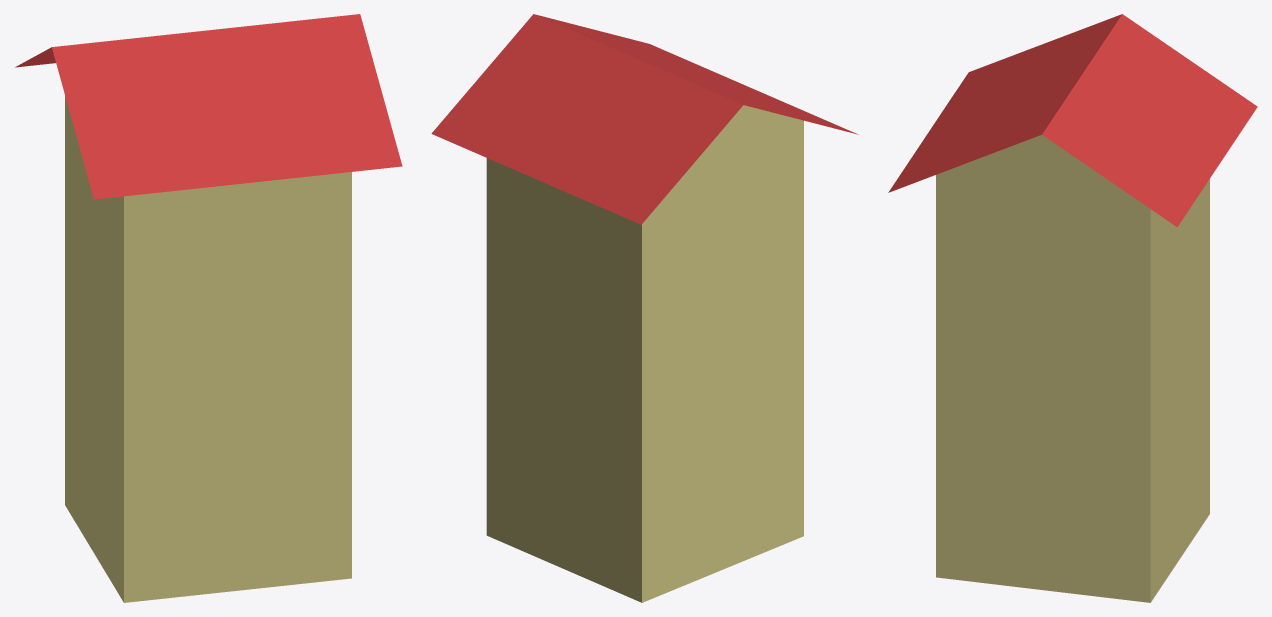
3 views of the same model, side by side, from view 1: azimuth 30°, elevation 25°; view 2: azimuth 150°, elevation 25°; view 3: azimuth 270°, elevation 25° (orthographic). The views are drawn at different scales.
Parts seen in each view (by area): view 1: group_5, group_3, group_4; view 2: group_5, group_3, group_4; view 3: group_5, group_3, group_4.
Part boxes in pixels (left/top/right/bottom): group_5: left=65, top=96, right=351, bottom=602; group_3: left=15, top=18, right=351, bottom=158; group_4: left=17, top=14, right=402, bottom=199; group_5: left=486, top=105, right=803, bottom=602; group_3: left=431, top=14, right=802, bottom=224; group_4: left=535, top=14, right=858, bottom=223; group_5: left=936, top=135, right=1209, bottom=602; group_3: left=936, top=14, right=1257, bottom=227; group_4: left=888, top=14, right=1256, bottom=192.
Size of the model in its own units: 4.74 by 4.77 by 6.73.
